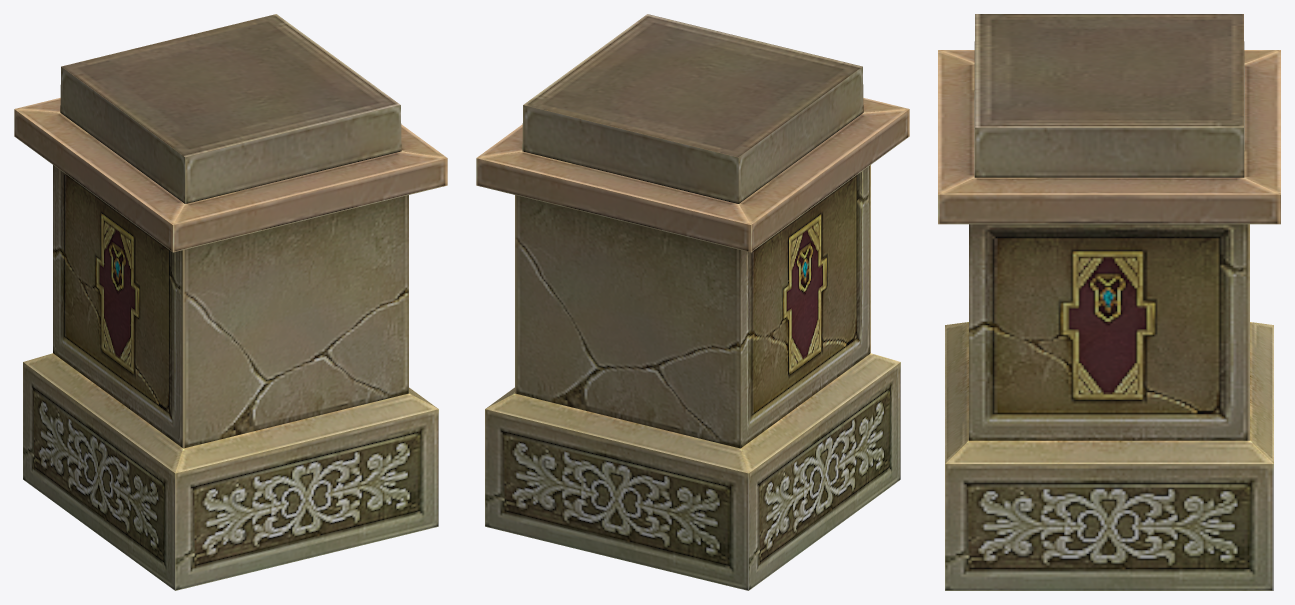
The model's file is Base01_Build_LostTemple_005.FBX.
The picture shows the model from 3 angles, left to right: view 1: azimuth 30°, elevation 25°; view 2: azimuth 150°, elevation 25°; view 3: azimuth 270°, elevation 25°; orthographic projection. The views are drawn at different scales.
Visible parts, largest first — view 1: Base01_Build_LostTemple_005; view 2: Base01_Build_LostTemple_005; view 3: Base01_Build_LostTemple_005.
Boxes of the visible parts, <box> form: Base01_Build_LostTemple_005: <box>14,14,447,590</box>; Base01_Build_LostTemple_005: <box>476,14,909,590</box>; Base01_Build_LostTemple_005: <box>938,14,1280,590</box>.
Bounding box in the file's own units: 208 × 301 × 208.
